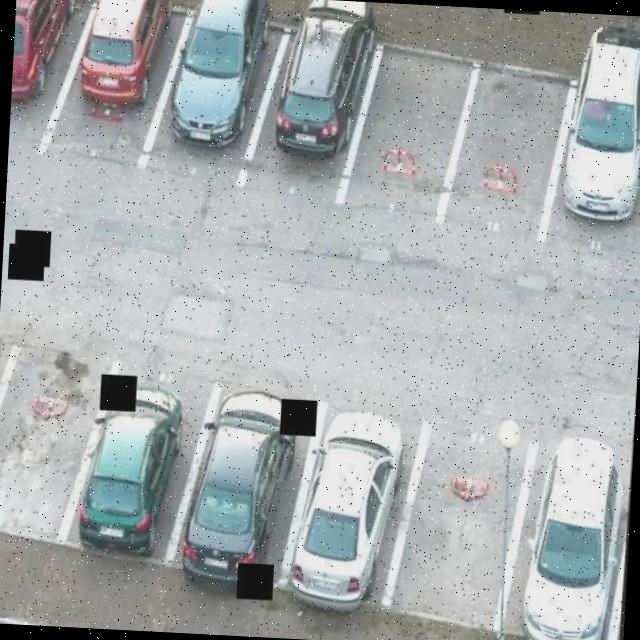occupied: (497, 412, 633, 640), (391, 412, 534, 616), (181, 372, 309, 594), (275, 383, 406, 594), (70, 346, 202, 555), (0, 344, 99, 552), (263, 1, 367, 198), (452, 46, 556, 242), (156, 0, 269, 178), (354, 35, 462, 218), (61, 0, 167, 158), (554, 52, 640, 243), (9, 0, 72, 139)
